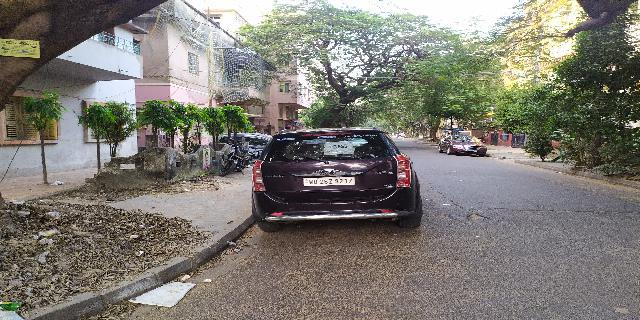Car: (250, 124, 429, 237), (436, 130, 488, 160)
